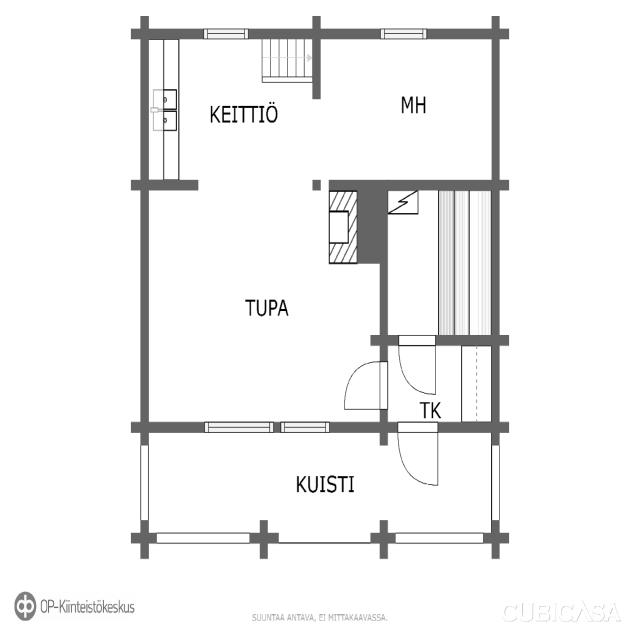door: (389, 417, 444, 493), (392, 332, 442, 402), (339, 356, 389, 413)
window: (389, 525, 488, 557), (152, 525, 253, 552), (270, 531, 378, 553), (486, 438, 508, 531), (132, 438, 154, 530), (204, 417, 274, 438), (278, 418, 333, 437), (378, 24, 430, 43), (200, 24, 251, 43)
zone: (149, 180, 381, 427), (319, 34, 494, 180), (148, 34, 315, 182), (383, 186, 498, 341), (384, 338, 494, 424)
